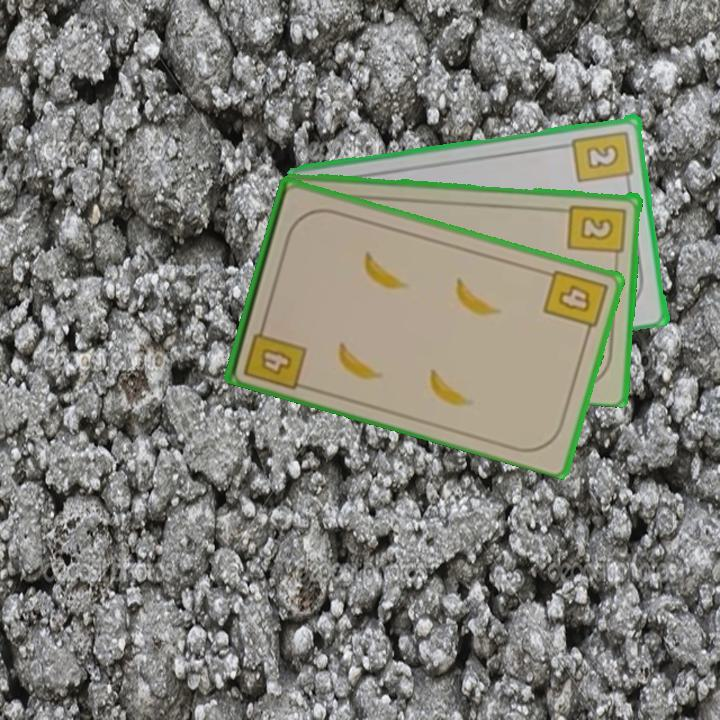2b: (565, 200, 629, 265), (570, 127, 637, 188)
4b: (539, 266, 611, 340), (240, 316, 310, 392)
